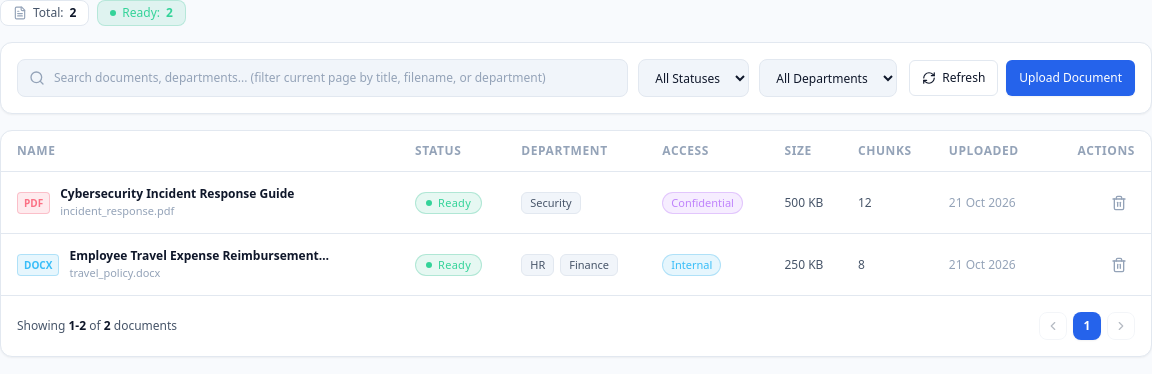
Scenario: Phase 7 Milestone 7 — Frontend Integration, Accessibility & Acceptance Audit › 2. Document Management & Ingestion Scope Audit › accurately identifies and labels search input as current-page filter with live counter badge
Expected: the link "Cybersecurity Incident Response Guide" is shown, [60, 186, 294, 201]
# Verify live badge updates when query is active
Replace the text in the field with placeholder "filter current page by title, filename, or department" with "Travel" at (323, 78), box [17, 59, 628, 97]
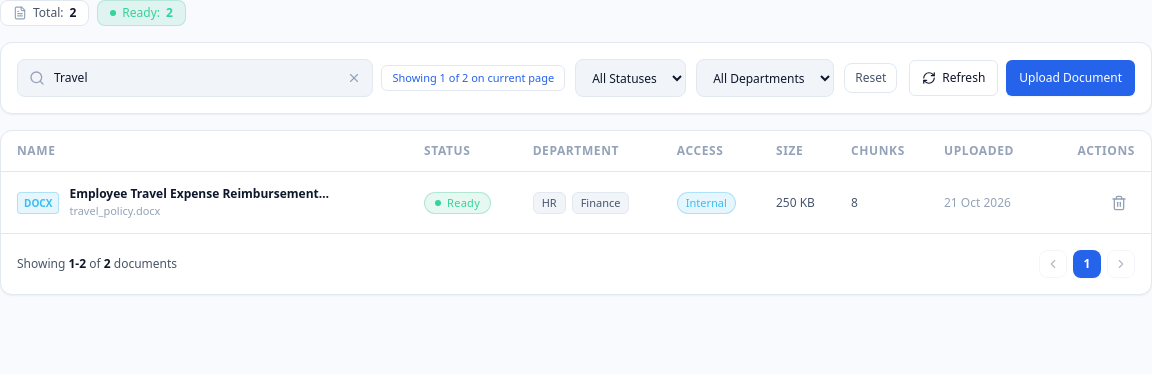
Expected: the link "Employee Travel Expense Reimbursement Policy" is shown, [69, 186, 329, 201]
Now the link "Cybersecurity Incident Response Guide" is gone
Now the text with test id "page-filter-indicator" reads "Showing 1 of 2 on current page", box [381, 65, 565, 91]
